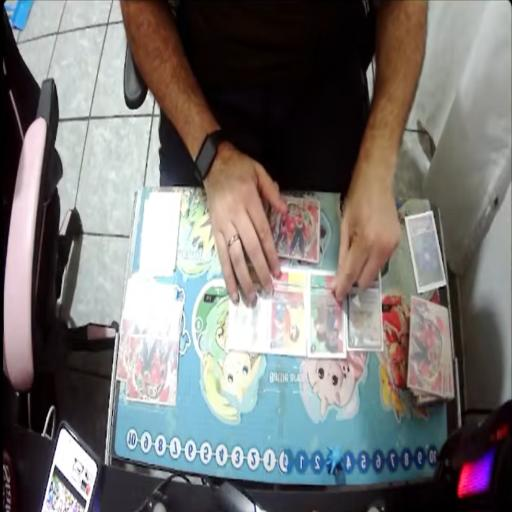card: (306, 265, 347, 364), (139, 189, 183, 278), (267, 266, 306, 358), (403, 208, 446, 288), (348, 257, 382, 354), (232, 261, 266, 355)
